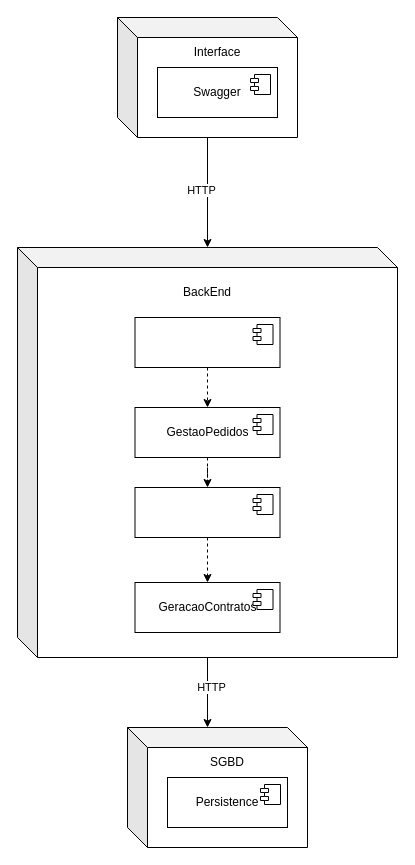
Some shapes in this 415 by 865 pixel diagram are drawn without their labels. Here are the shapes that lost their labels. From the top down, the centre of each, then its label:
At (207,342): "Autenticacao".
At (207,512): "AvaliacaoPedidos".
